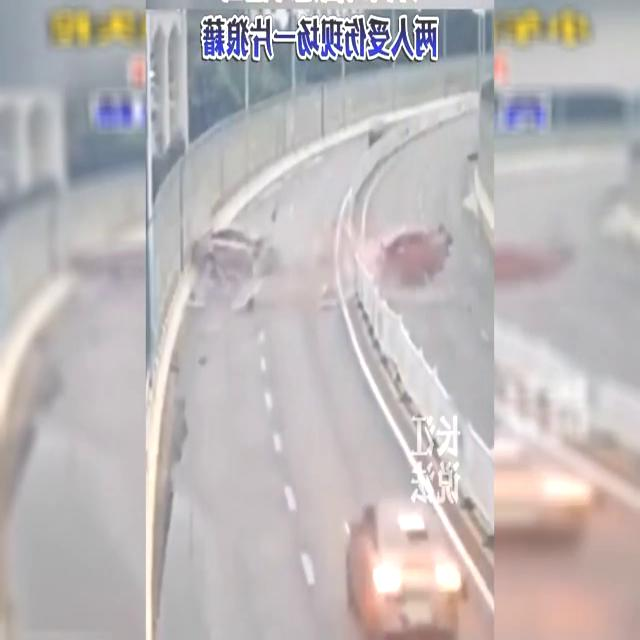accident: (190, 226, 458, 292), (191, 232, 275, 290), (382, 226, 458, 288)
